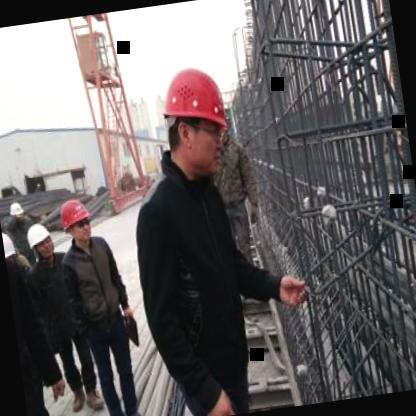helmet: (153, 62, 235, 185), (56, 195, 96, 248), (23, 220, 56, 266), (5, 200, 25, 228)
